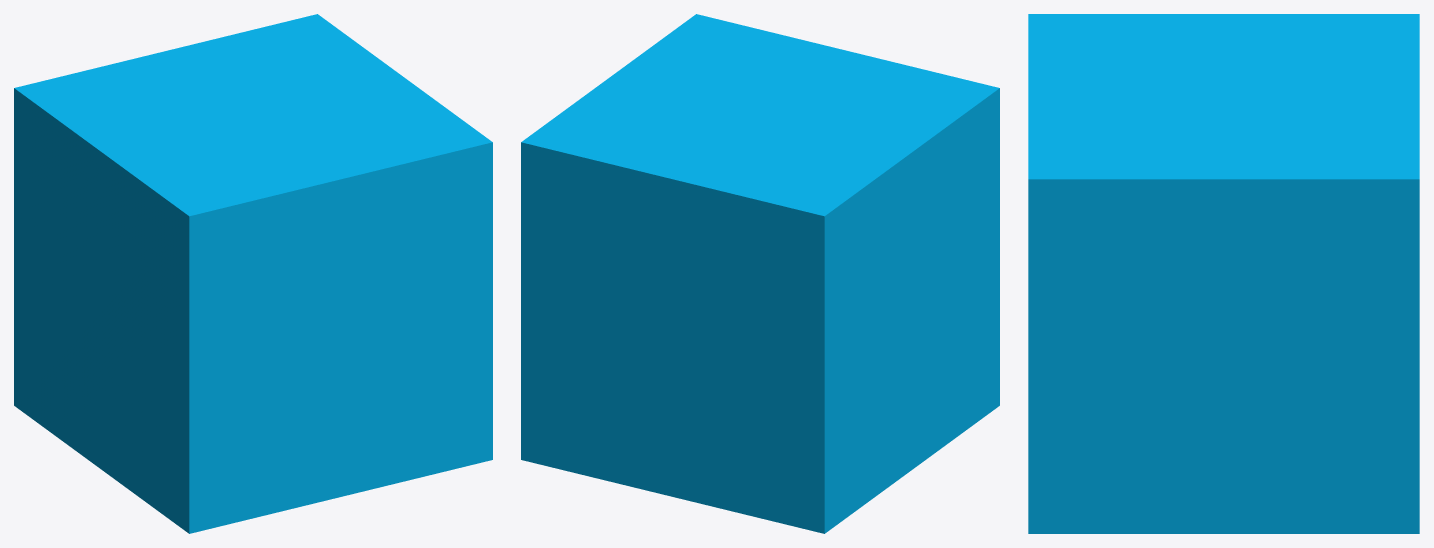
The model's file is lt_Z_alt_yuzey_kare_cep.gltf.
The picture shows the model from 3 angles, left to right: view 1: azimuth 30°, elevation 25°; view 2: azimuth 150°, elevation 25°; view 3: azimuth 270°, elevation 25°; orthographic projection. The views are drawn at different scales.
Visible parts, largest first — view 1: Gövde; view 2: Gövde; view 3: Gövde.
Part boxes in pixels (left/top/right/bottom): Gövde: left=14, top=14, right=492, bottom=533; Gövde: left=521, top=14, right=999, bottom=533; Gövde: left=1028, top=14, right=1419, bottom=533.
Bounding box in the file's own units: 0.01 × 0.01 × 0.01.
